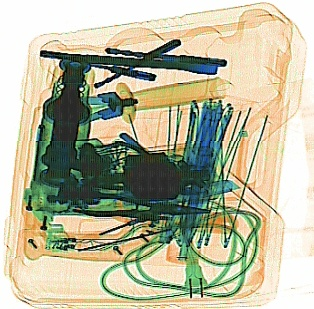qianzi: (69, 190, 209, 218)
umbrella: (157, 95, 267, 265)
yktsdaopian: (120, 176, 240, 206)
zaozi: (39, 52, 218, 76)
